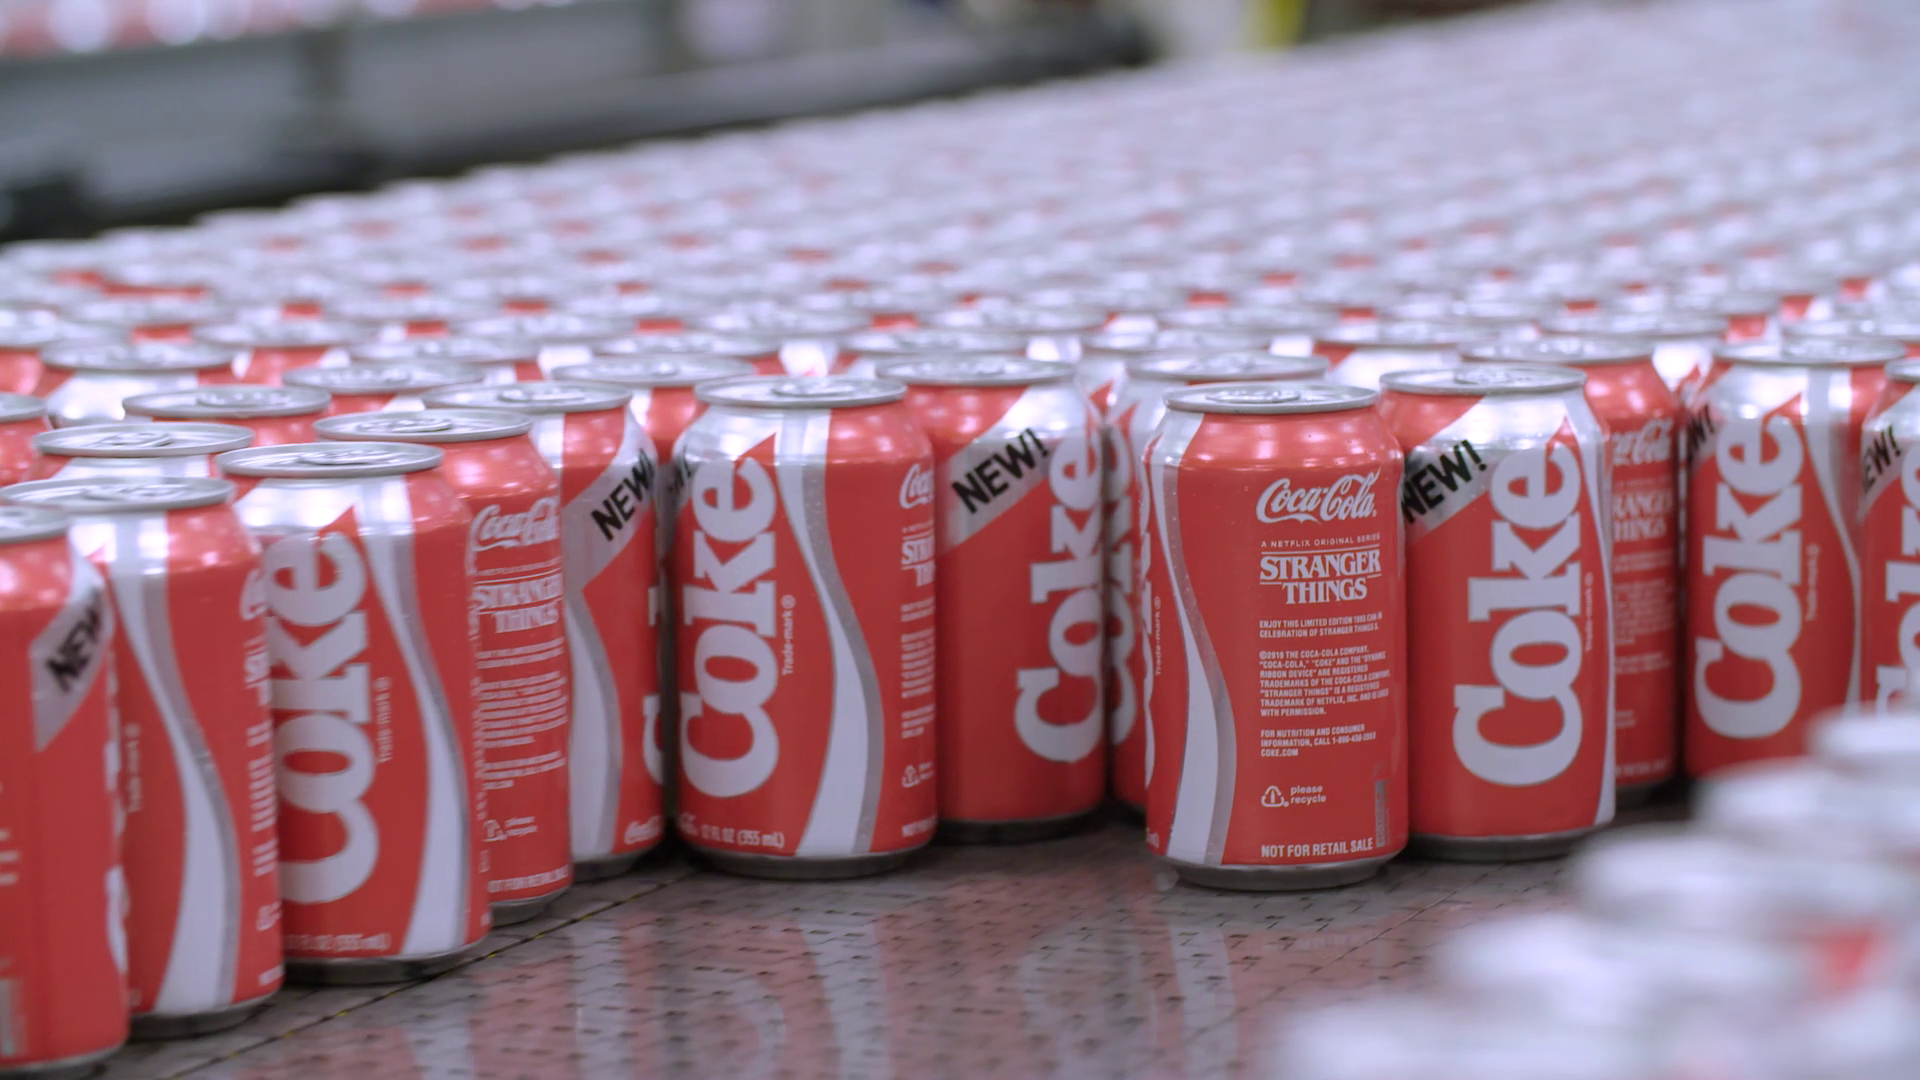Coca-Cola: (1151, 406, 1391, 907)
Copy of Coca-Cola: (1393, 373, 1633, 876), (657, 400, 895, 902)
Copy of Copy of Coca-Cola: (1680, 343, 1920, 845), (655, 398, 894, 899)
Copy of Copy of Copy of Coca-Cola: (268, 436, 508, 939), (915, 381, 1154, 884)
Copy of Copy of Copy of Copy of Coca-Cola: (29, 495, 268, 996)
